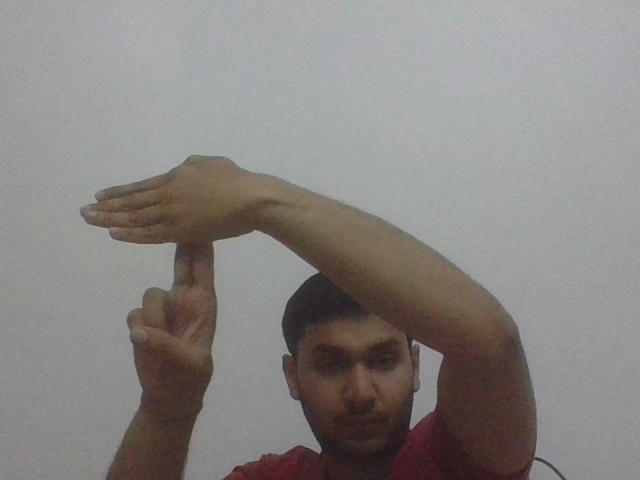N: (80, 151, 244, 288)
